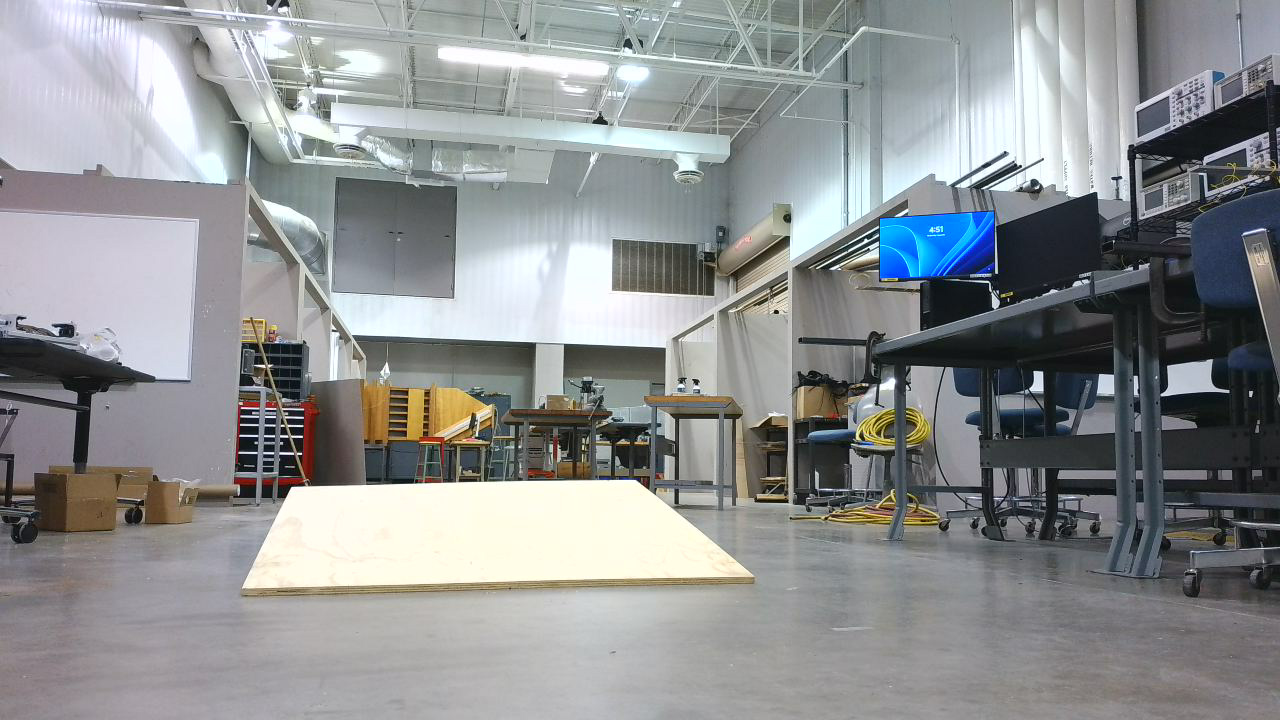ramp: (241, 479, 763, 606)
